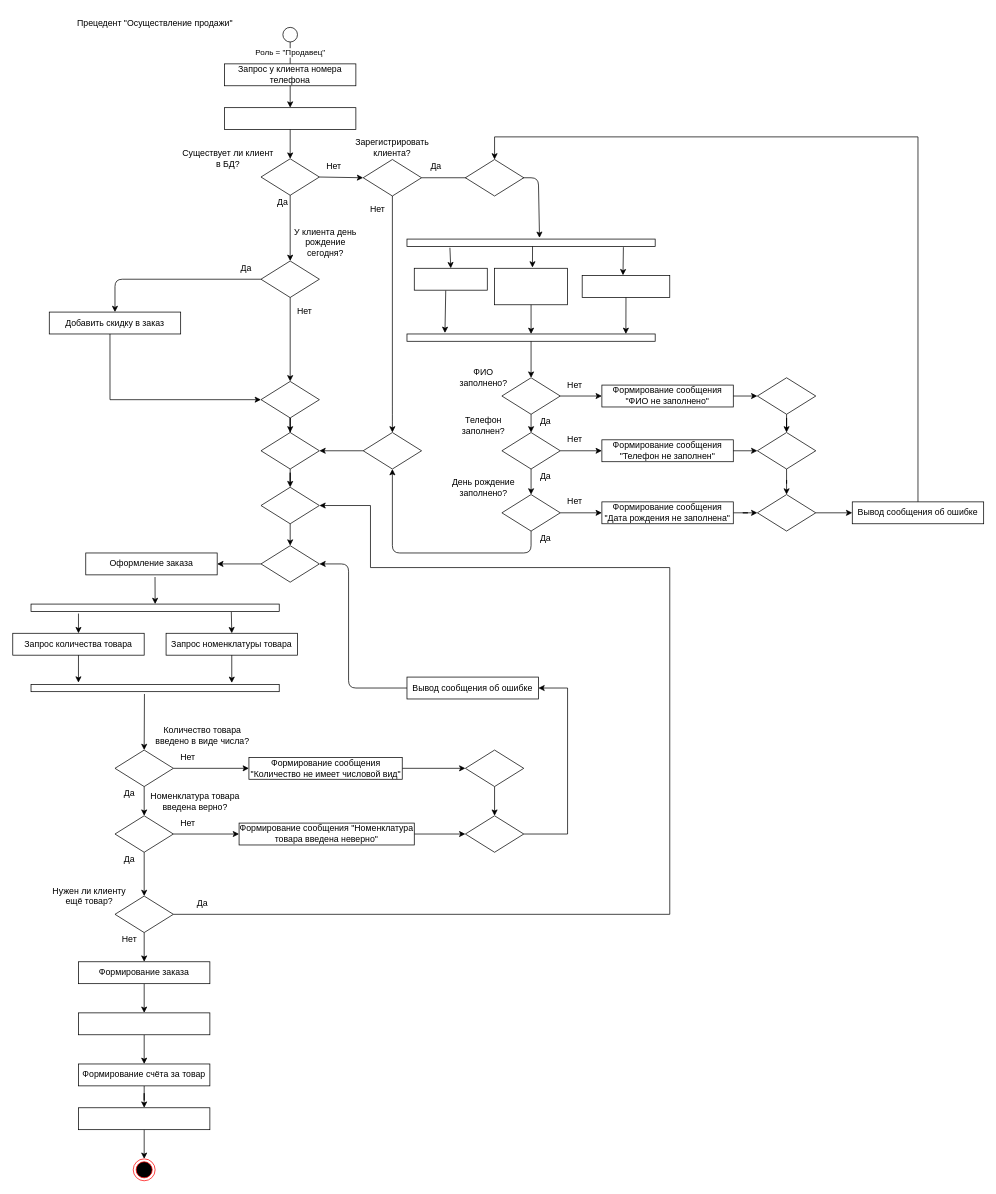
Image size: 996x1194. Some labels were removed from this diagram. The shapes that lost their labels are listed below. From the top down, each one's box as (x1, y1, x2, y2) in pixels, then its label:
(224, 107, 356, 130): Поиск клиента в БД
(414, 268, 487, 290): Запрос ФИО у клиента
(494, 268, 568, 305): Запрос номера телефона у клиента
(581, 275, 670, 297): Запрос дня рождения у клиента
(78, 1012, 210, 1035): Регистрация убытия товара со склада
(78, 1107, 210, 1130): Выдача заказа
